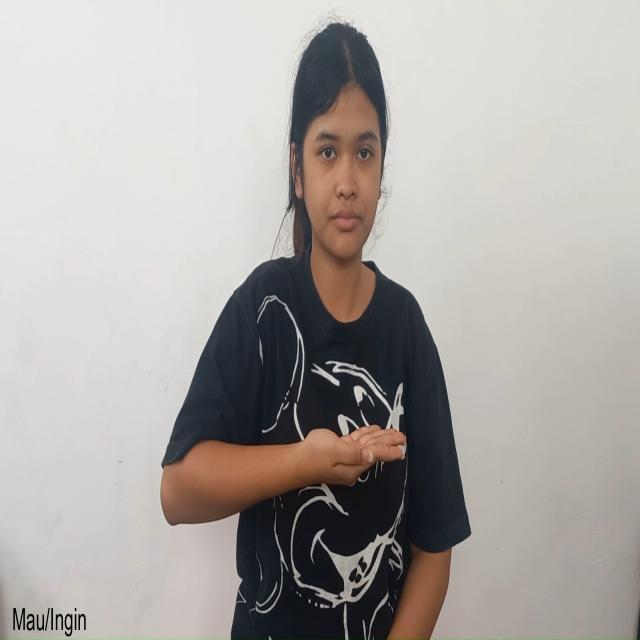Mau-Ingin -BISINDO-: (159, 426, 408, 528)
